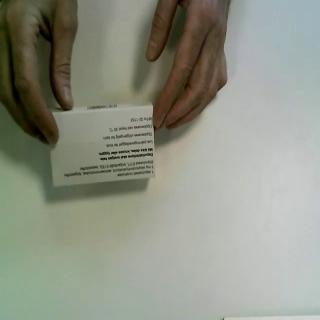oxycontin5mg: (46, 101, 158, 189)
